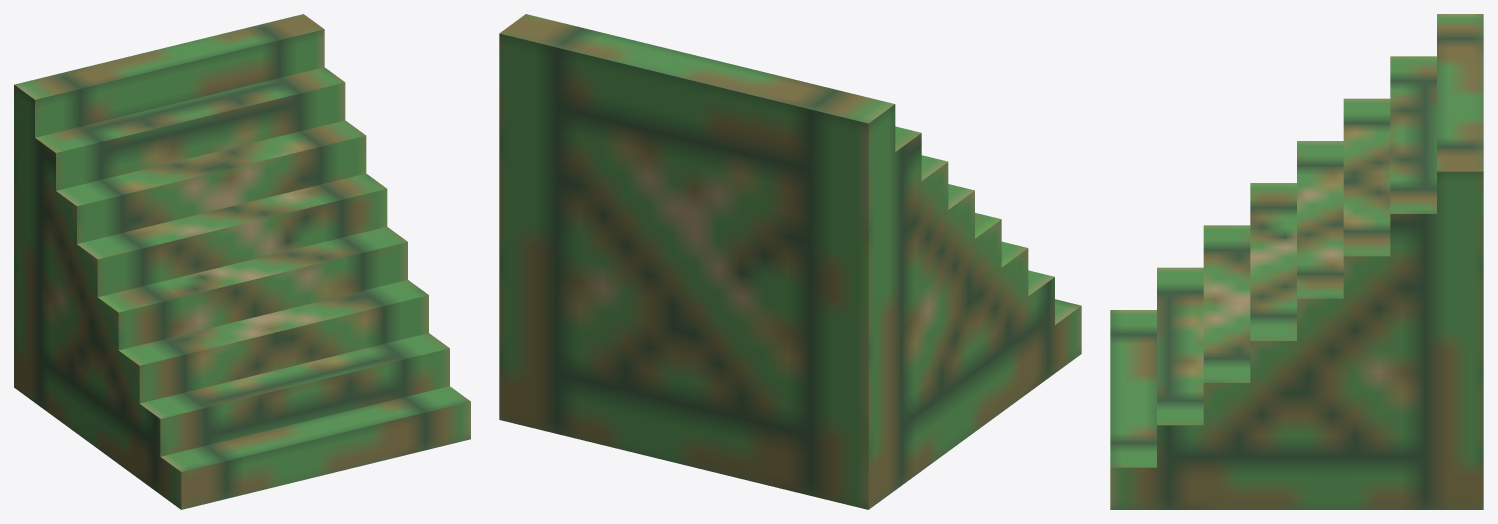
The model's file is cube-stairs-2px-gaps-16x16x16.obj.
3 views of the same model, side by side, from view 1: azimuth 30°, elevation 25°; view 2: azimuth 150°, elevation 25°; view 3: azimuth 270°, elevation 25° (orthographic). The views are drawn at different scales.
Visible parts, largest first — view 1: Default; view 2: Default; view 3: Default.
Part boxes in pixels (x1,y1,x2,y2): Default: (14,14,470,509); Default: (499,14,1081,509); Default: (1110,14,1483,509).
Size of the model in its own units: 1 by 1 by 1.
